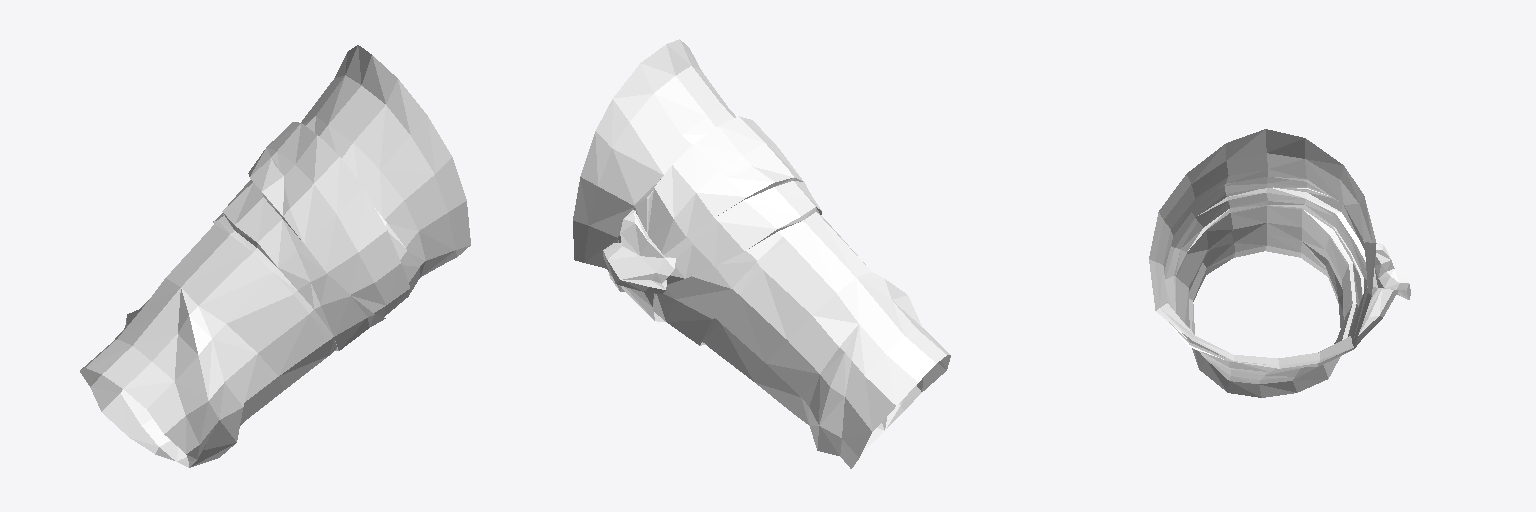
The model's file is Blade_HombroDer.obj.
3 renders of one model, left to right at view 1: azimuth 30°, elevation 25°; view 2: azimuth 150°, elevation 25°; view 3: azimuth 270°, elevation 25°, orthographic.
Parts seen in each view (by area): view 1: Hombro_Der; view 2: Hombro_Der; view 3: Hombro_Der.
Part boxes in pixels (left/top/right/bottom): Hombro_Der: left=80, top=45, right=470, bottom=467; Hombro_Der: left=573, top=39, right=950, bottom=468; Hombro_Der: left=1149, top=129, right=1410, bottom=397.
Size of the model in its own units: 1.1 by 1.17 by 0.7718.